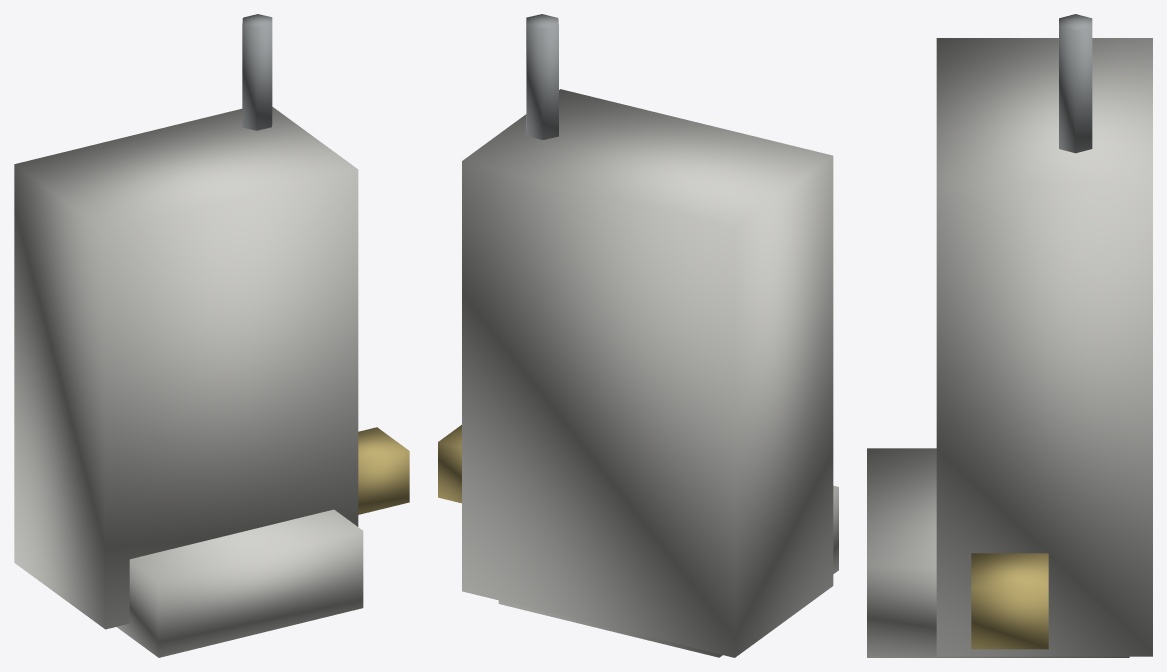
The model's file is urinal_02.glb.
3 renders of one model, left to right at view 1: azimuth 30°, elevation 25°; view 2: azimuth 150°, elevation 25°; view 3: azimuth 270°, elevation 25°, orthographic. The views are drawn at different scales.
Visible parts, largest first — view 1: world; view 2: world; view 3: world.
Boxes of the visible parts, left/top/right/bottom form: world: left=14, top=14, right=409, bottom=657; world: left=438, top=14, right=838, bottom=657; world: left=867, top=14, right=1152, bottom=657.
Size of the model in its own units: 0.5088 by 0.8036 by 0.333.
